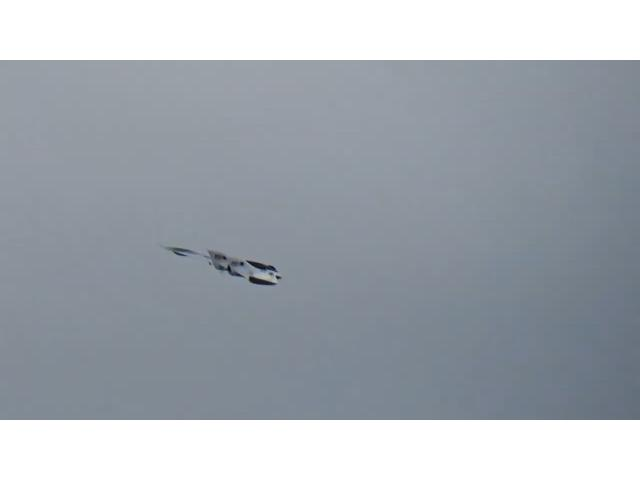Anti-Drone: (154, 236, 284, 287)
